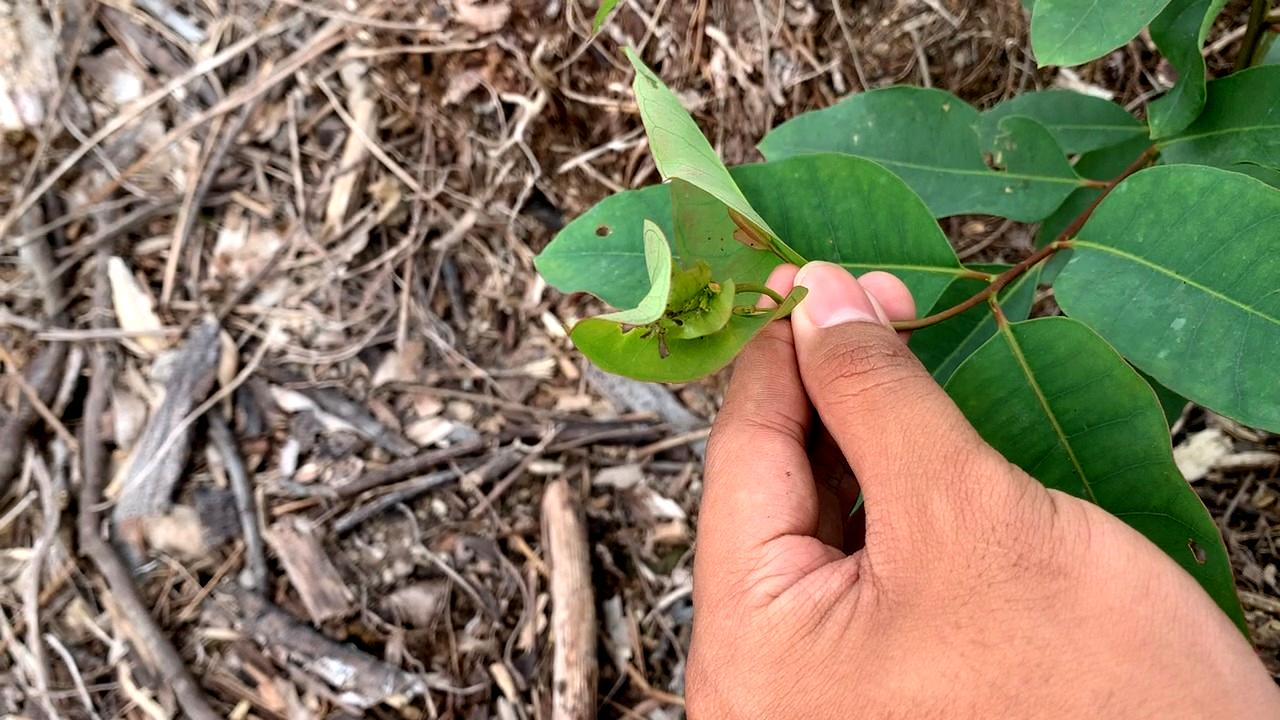Leaf Roller - Leaf: (562, 220, 817, 388)
